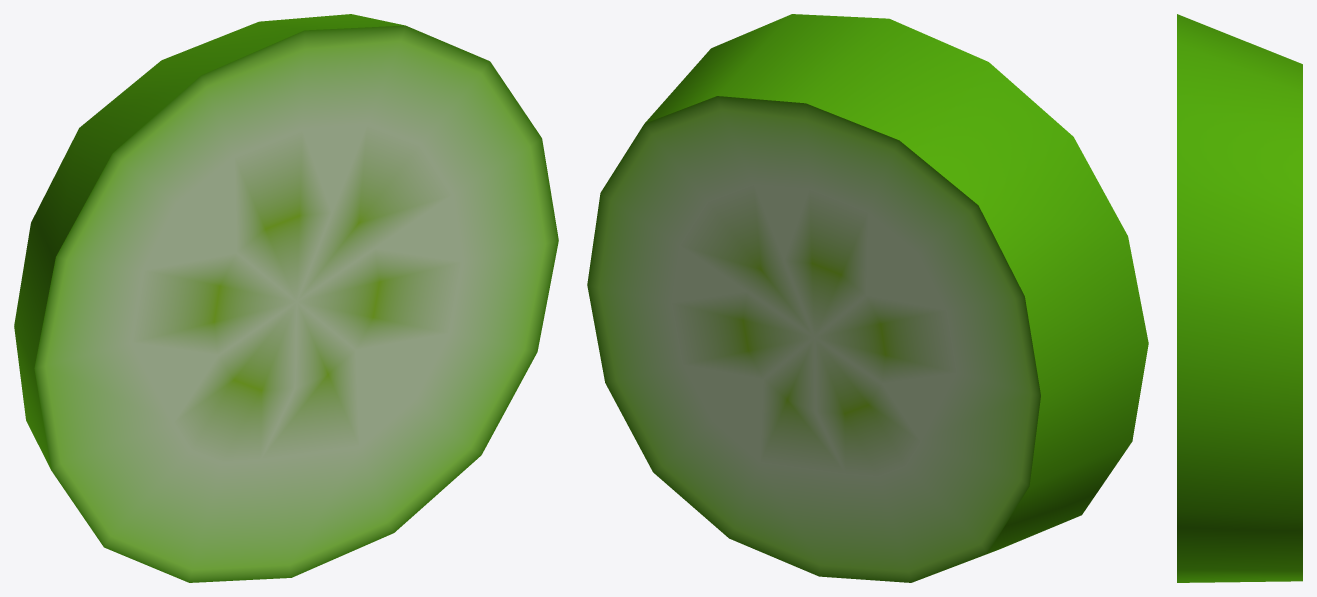
Rendered from Cucumber_Slice_20.fbx.
3 renders of one model, left to right at view 1: azimuth 30°, elevation 25°; view 2: azimuth 150°, elevation 25°; view 3: azimuth 270°, elevation 25°, orthographic. The views are drawn at different scales.
Visible parts, largest first — view 1: Cucumber_Slice_20; view 2: Cucumber_Slice_20; view 3: Cucumber_Slice_20.
Part boxes in pixels (x1=…): Cucumber_Slice_20: x1=14, y1=14, x2=558, y2=582; Cucumber_Slice_20: x1=587, y1=14, x2=1148, y2=582; Cucumber_Slice_20: x1=1177, y1=14, x2=1302, y2=582.
Bounding box in the file's own units: 3.85 × 3.82 × 0.8408.
